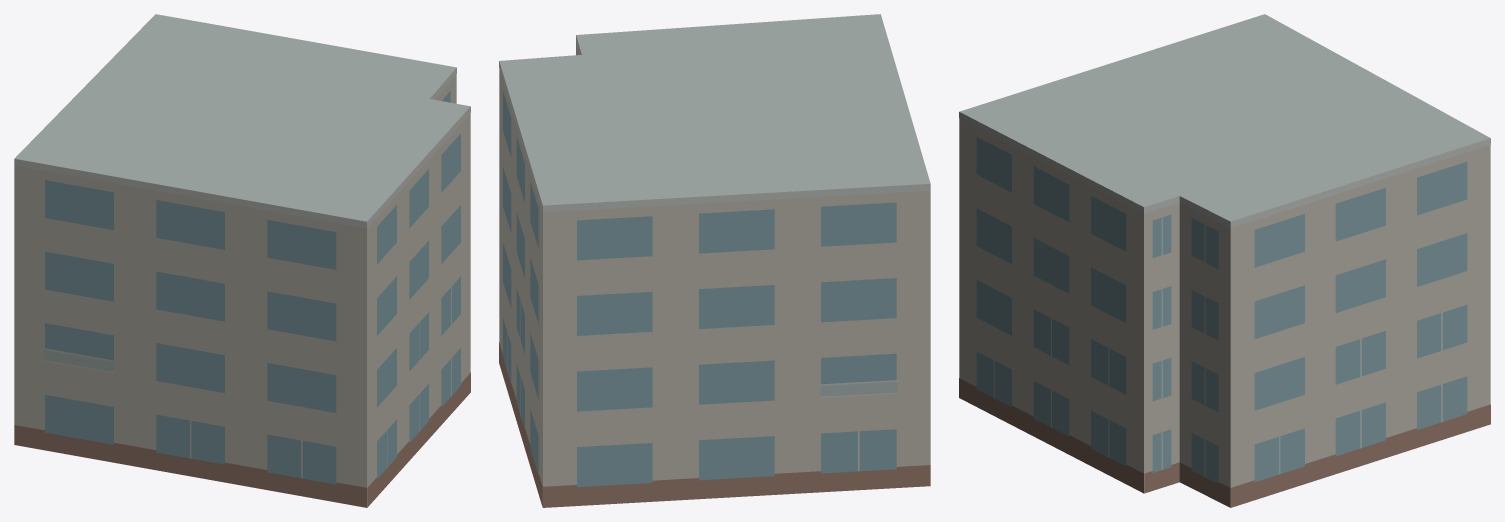
Rendered from survey-upis-32723304.glb.
3 views of the same model, side by side, from view 1: azimuth 30°, elevation 25°; view 2: azimuth 150°, elevation 25°; view 3: azimuth 270°, elevation 25° (orthographic). The views are drawn at different scales.
Visible parts, largest first — view 1: survey-upis-32723304.tmp; view 2: survey-upis-32723304.tmp; view 3: survey-upis-32723304.tmp.
Boxes of the visible parts, left/top/right/bottom form: survey-upis-32723304.tmp: left=14, top=14, right=470, bottom=507; survey-upis-32723304.tmp: left=499, top=14, right=930, bottom=507; survey-upis-32723304.tmp: left=959, top=14, right=1490, bottom=507.
Size of the model in its own units: 16.5 by 10.6 by 17.85.
